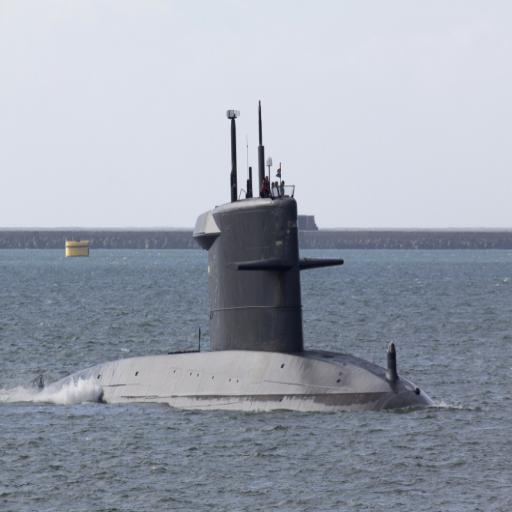submarine: (33, 106, 433, 404)
